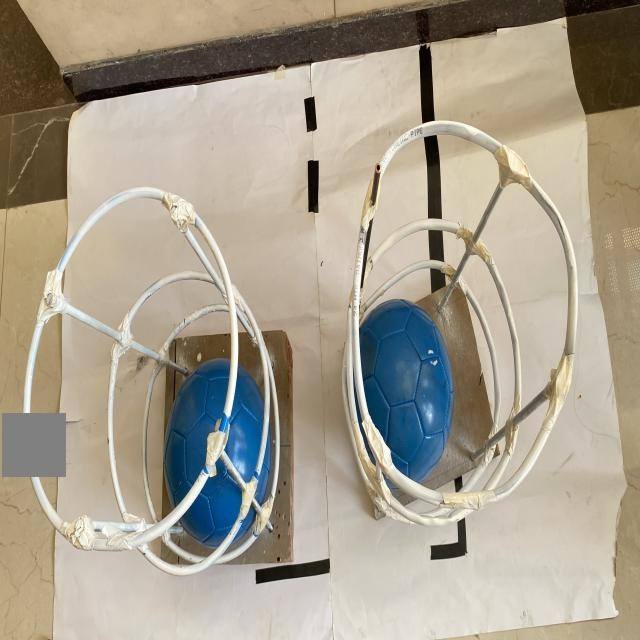blue_ball: (166, 361, 270, 545), (350, 299, 453, 482)
silo: (20, 184, 293, 580), (341, 118, 579, 533)
